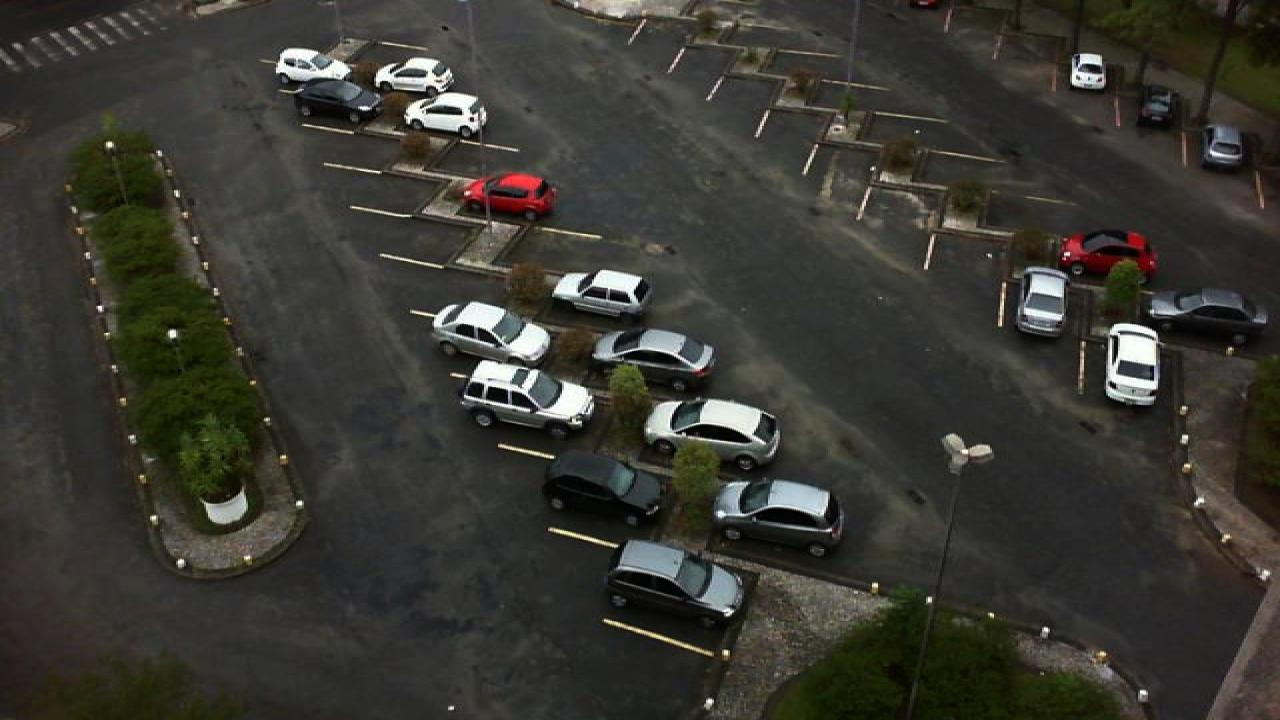Car: (600, 537, 746, 630), (708, 477, 846, 559), (458, 359, 596, 440), (640, 398, 782, 474), (540, 450, 666, 530), (586, 328, 716, 393), (432, 300, 556, 364), (1144, 287, 1270, 346), (1102, 320, 1166, 408), (1054, 227, 1160, 280), (550, 268, 652, 320), (460, 170, 558, 222), (290, 78, 386, 127), (402, 92, 490, 141), (1012, 266, 1070, 340), (272, 47, 356, 88), (374, 56, 456, 96), (1198, 123, 1248, 171), (1136, 84, 1178, 130), (1066, 52, 1110, 91)
